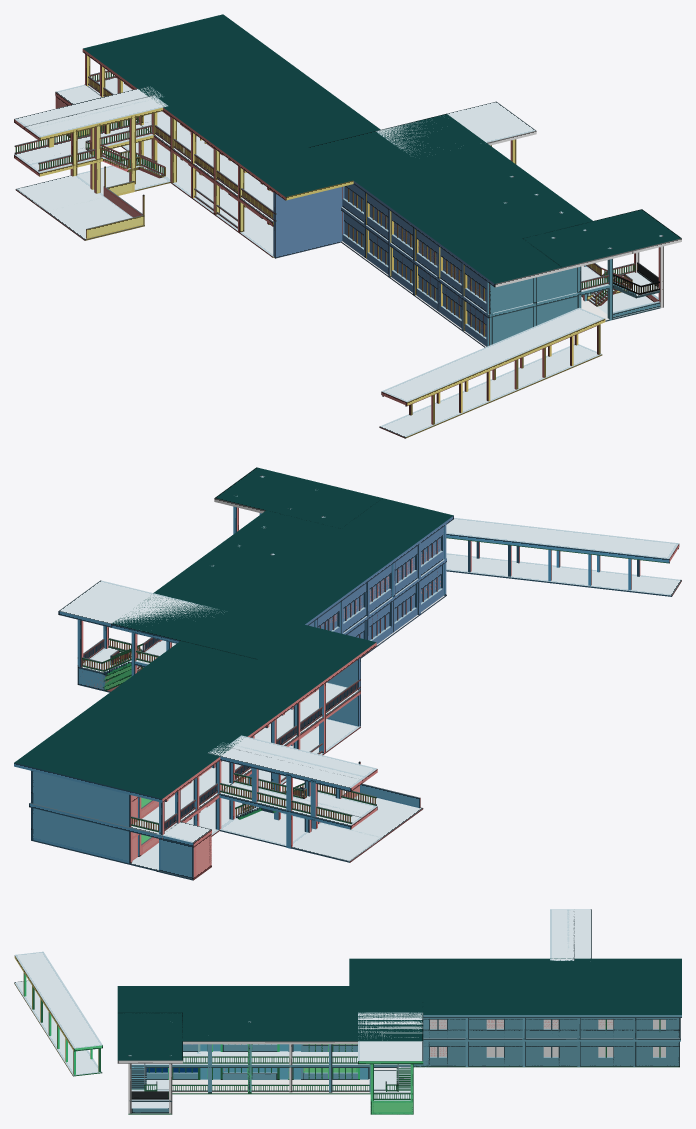
Rendered from PIONEER.gltf.
3 renders of one model, top to bottom at view 1: azimuth 30°, elevation 25°; view 2: azimuth 150°, elevation 25°; view 3: azimuth 270°, elevation 25°, orthographic. The views are drawn at different scales.
Parts seen in each view (by area): view 1: cube (×24), cuboid; view 2: cube (×26), cuboid; view 3: cube (×32), cuboid.
Boxes of the visible parts, x1,y1,x2,y2 form: cube (×24): [14, 14, 681, 438]; cuboid: [344, 186, 486, 336]; cube (×26): [14, 467, 681, 878]; cuboid: [318, 538, 440, 639]; cube (×32): [14, 909, 681, 1114]; cuboid: [430, 1019, 665, 1056].
Bounding box in the file's own units: 20.94 × 3.75 × 38.91.
Materials: 1 (1 with a texture image).
